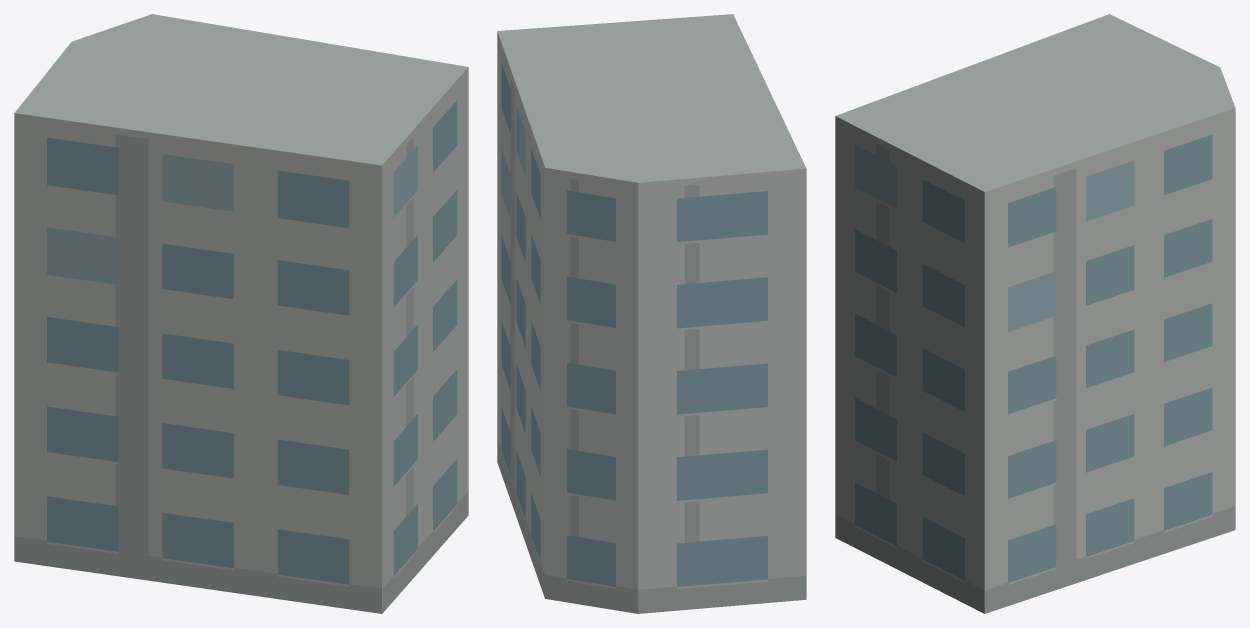
File: survey-upis-32752083.glb
3 renders of one model, left to right at view 1: azimuth 30°, elevation 25°; view 2: azimuth 150°, elevation 25°; view 3: azimuth 270°, elevation 25°, orthographic. The views are drawn at different scales.
Visible parts, largest first — view 1: survey-upis-32752083.tmp; view 2: survey-upis-32752083.tmp; view 3: survey-upis-32752083.tmp.
Part boxes in pixels (x1,y1,x2,y2): survey-upis-32752083.tmp: (14,14,468,613); survey-upis-32752083.tmp: (497,14,806,613); survey-upis-32752083.tmp: (835,14,1235,613).
Size of the model in its own units: 13.77 by 15.2 by 13.08.
